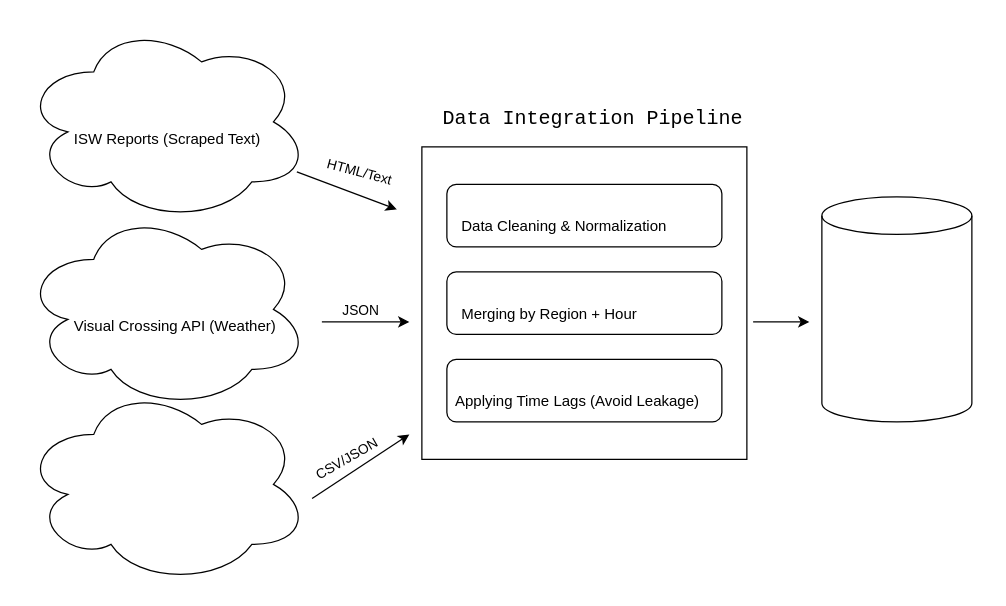
Image size: 1006x606. Some labels were removed from this diagram. Here are the shapes that lost their labels. From the top down, the centre of each, then its label:
[896,309]: Final Dataset for ML
[165,483]: Kurochkin Data (History & Alarms)
